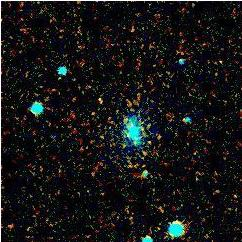star: (89, 88, 119, 118)
